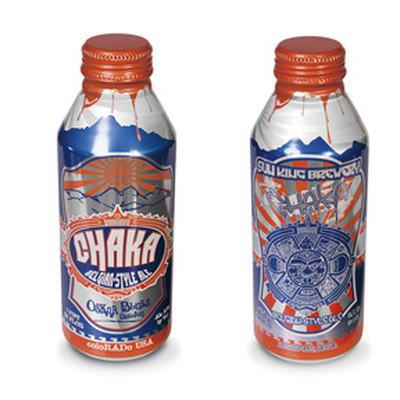beer: (60, 32, 370, 364)
